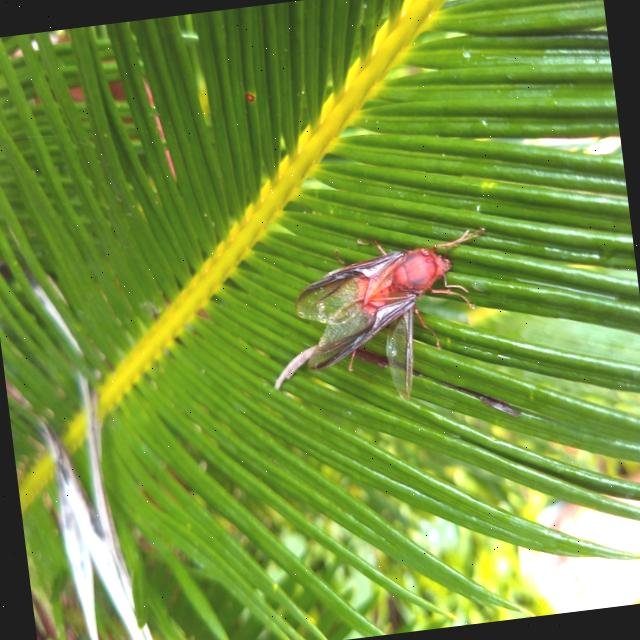Alive-Male-Alate: (288, 222, 504, 414)
